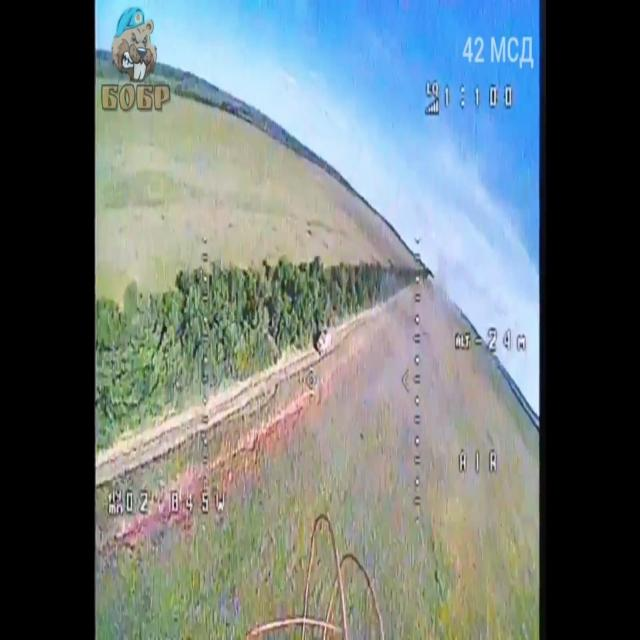apc: (316, 330, 333, 353)
